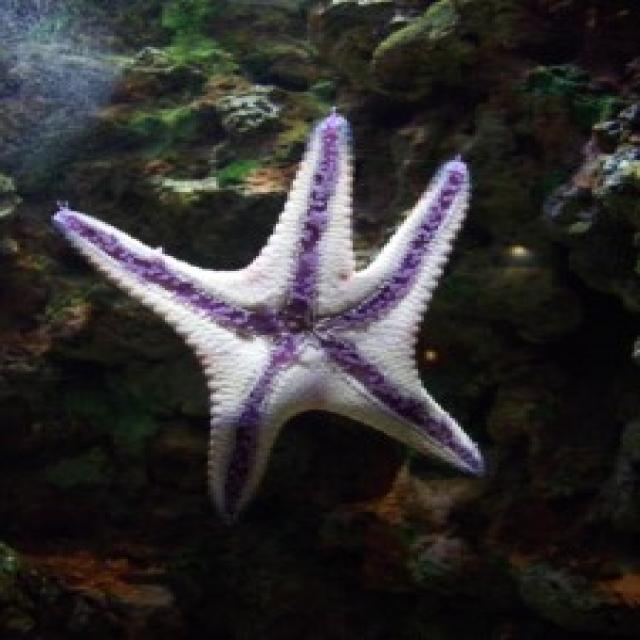Starfish: (41, 107, 500, 505)
